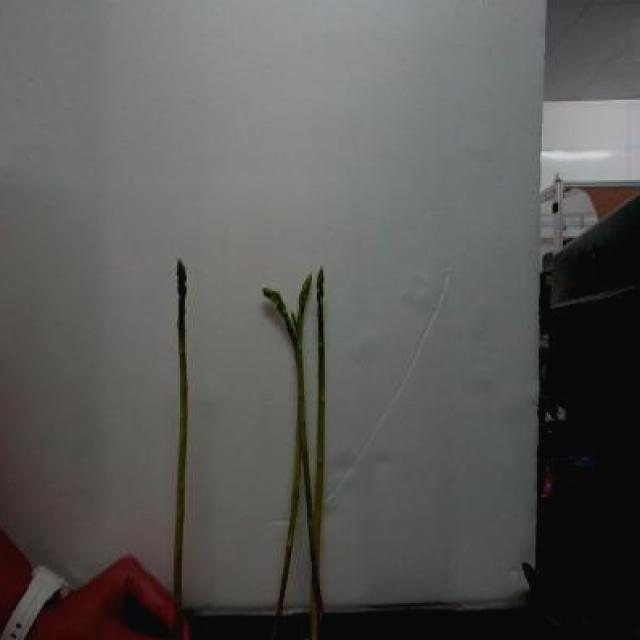aspargus: (172, 259, 191, 614)
